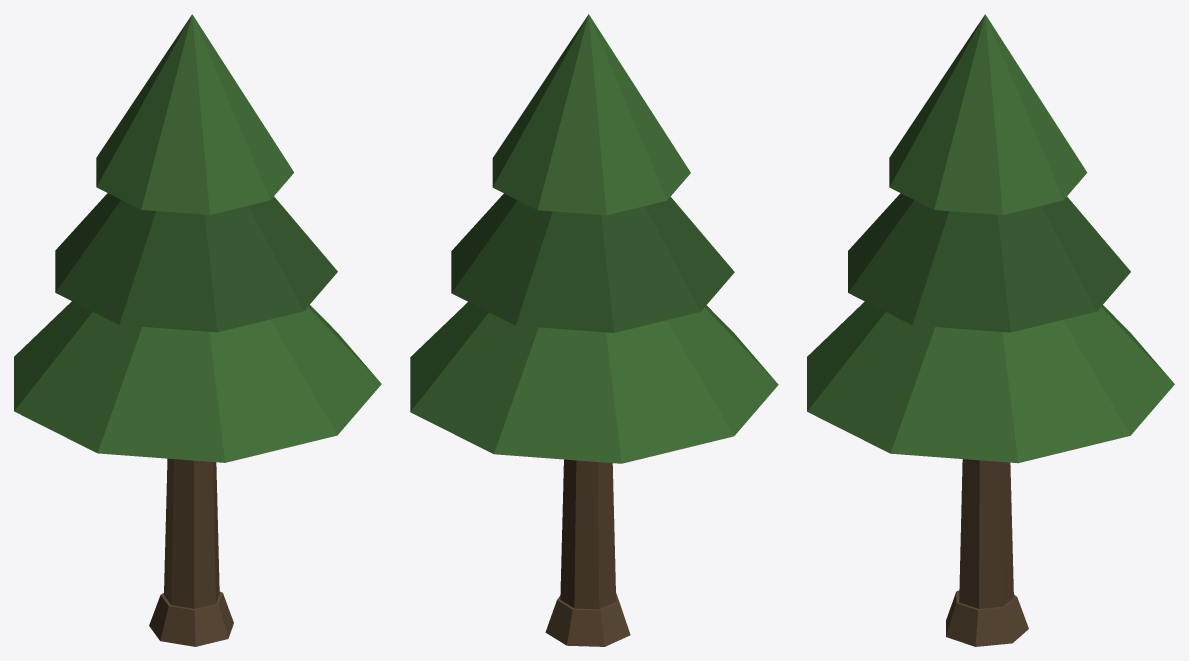
Rendered from tree.glb.
The picture shows the model from 3 angles, left to right: view 1: azimuth 30°, elevation 25°; view 2: azimuth 150°, elevation 25°; view 3: azimuth 270°, elevation 25°; orthographic projection.
Parts seen in each view (by area): view 1: Tree_Body; view 2: Tree_Body; view 3: Tree_Body.
Part boxes in pixels (x1=…): Tree_Body: x1=14, y1=14, x2=381, y2=646; Tree_Body: x1=410, y1=14, x2=778, y2=646; Tree_Body: x1=807, y1=14, x2=1174, y2=646.
Size of what is drawn, in the model's own units: 2.56 by 4.65 by 2.52.
